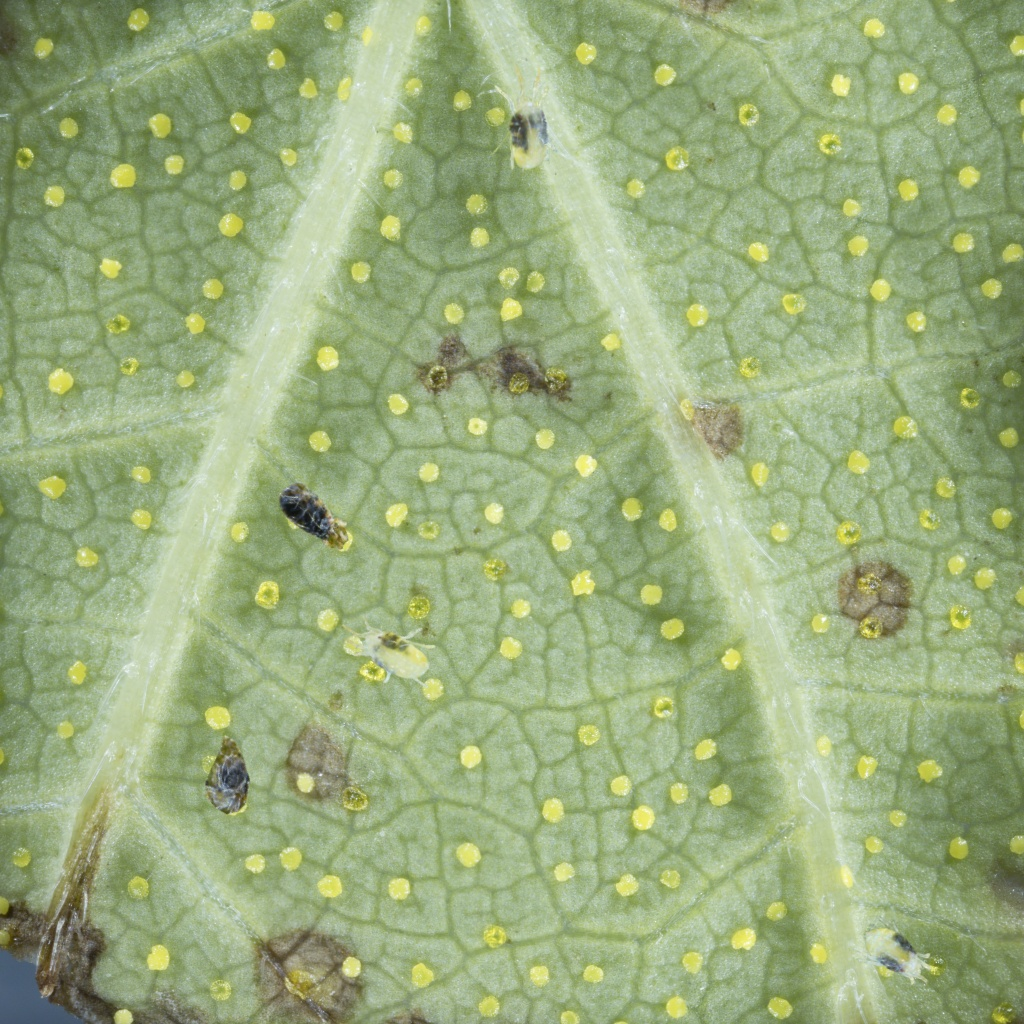Adult_female: (335, 587, 453, 713), (489, 61, 563, 174), (848, 913, 938, 991)
Dead_mite: (272, 469, 356, 566), (183, 732, 272, 822)
